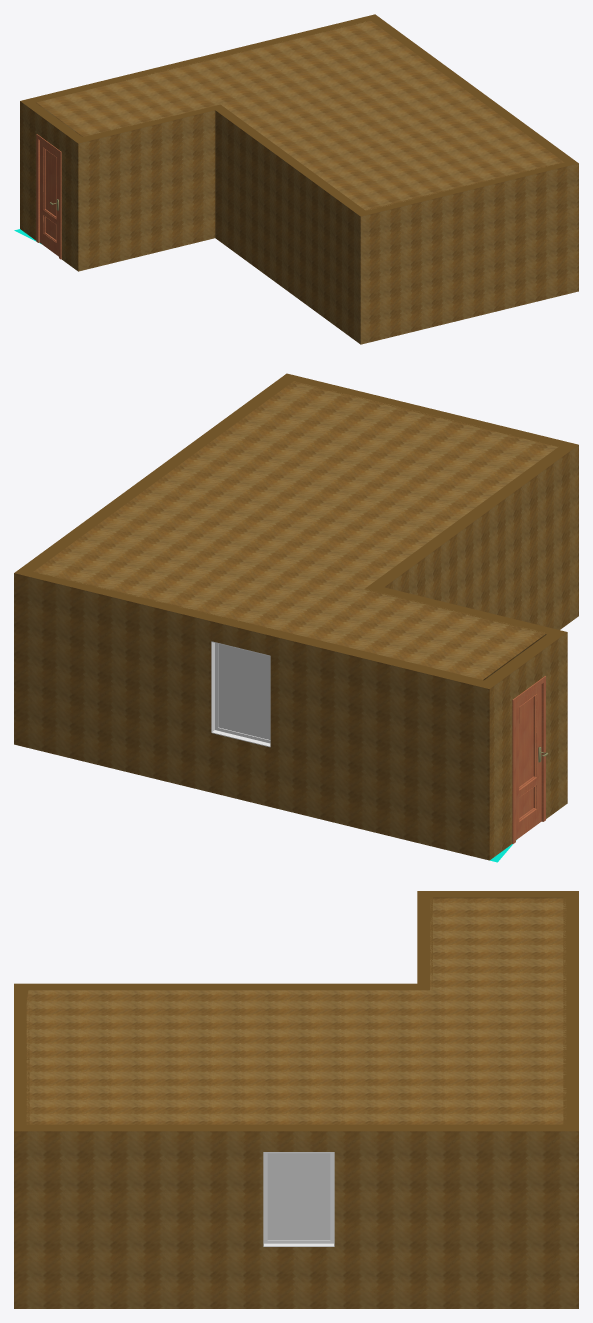
File: village_pecheurs_maison_pote.glb
3 views of the same model, one above another, from view 1: azimuth 30°, elevation 25°; view 2: azimuth 150°, elevation 25°; view 3: azimuth 270°, elevation 25° (orthographic). The views are drawn at different scales.
Visible parts, largest first — view 1: Village_pecheurs_maison_pote; view 2: Village_pecheurs_maison_pote; view 3: Village_pecheurs_maison_pote.
Boxes of the visible parts, <box> form: Village_pecheurs_maison_pote: <box>14,14,578,344</box>; Village_pecheurs_maison_pote: <box>14,373,578,862</box>; Village_pecheurs_maison_pote: <box>14,891,578,1308</box>.
Size of the model in its own units: 77.61 by 26.28 by 75.83.
6 materials, 2 textured.
